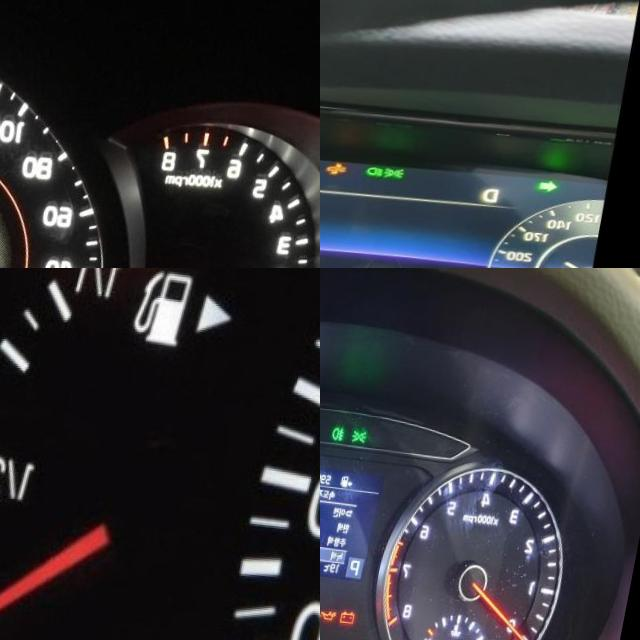FrontFogLight: (341, 418, 355, 434)
Low beam: (376, 156, 396, 168)
SideLamp: (395, 157, 419, 169), (361, 421, 378, 436)
